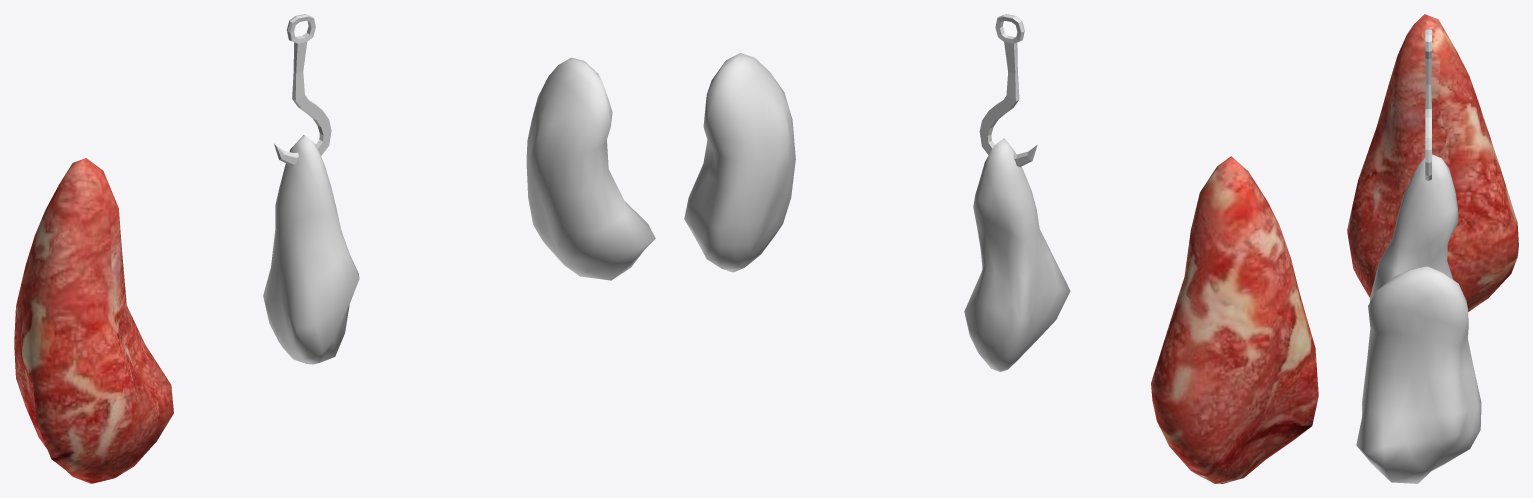
File: meatOnHook.fbx
The picture shows the model from 3 angles, left to right: view 1: azimuth 30°, elevation 25°; view 2: azimuth 150°, elevation 25°; view 3: azimuth 270°, elevation 25°; orthographic projection. The views are drawn at different scales.
Parts seen in each view (by area): view 1: meat_1, meat_2, meat_3, hook; view 2: meat_1, meat_2, meat_3, hook; view 3: meat_1, meat_2, meat_3, hook.
Boxes of the visible parts, box(x1,y1,x2,y2) form: meat_1: box(14, 158, 173, 483); meat_2: box(526, 57, 655, 280); meat_3: box(263, 135, 359, 364); hook: box(274, 14, 331, 165); meat_1: box(1151, 156, 1318, 483); meat_2: box(684, 53, 795, 272); meat_3: box(964, 138, 1070, 372); hook: box(979, 14, 1037, 167); meat_1: box(1347, 14, 1518, 311); meat_2: box(1356, 266, 1481, 483); meat_3: box(1369, 154, 1458, 301); hook: box(1425, 29, 1431, 180).
Size of the model in its own units: 717 by 461 by 181.
Materials: 1 (1 with a texture image).
